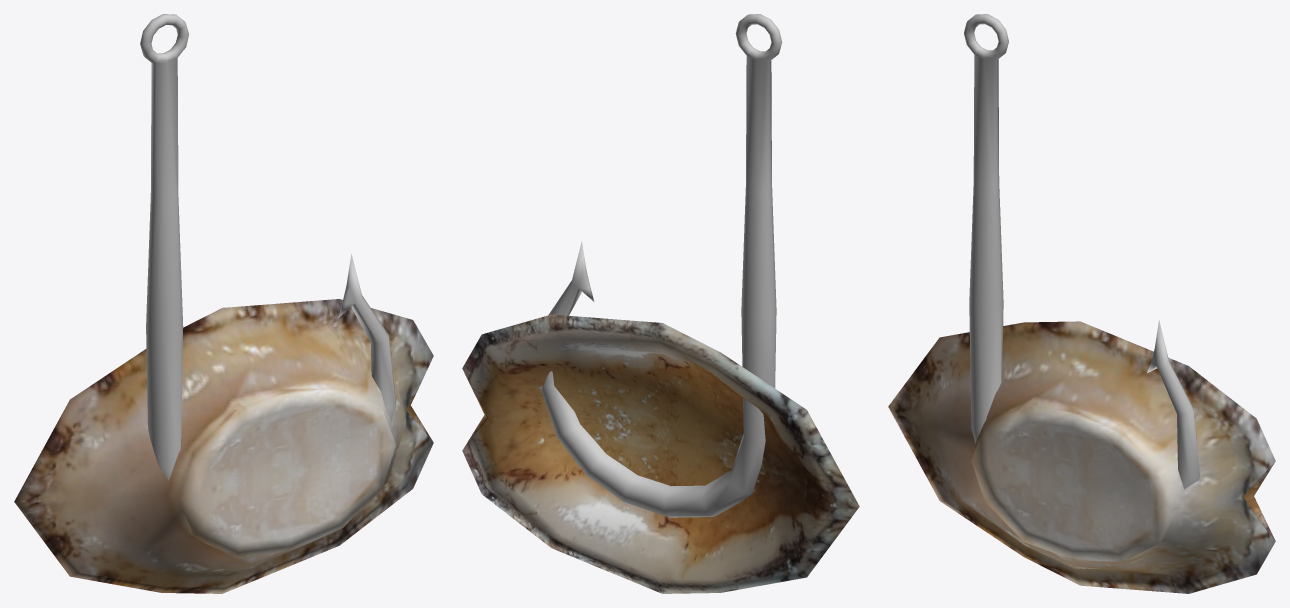
File: Bait_Abalone.fbx
3 renders of one model, left to right at view 1: azimuth 30°, elevation 25°; view 2: azimuth 150°, elevation 25°; view 3: azimuth 330°, elevation 25°, orthographic. The views are drawn at different scales.
Visible parts, largest first — view 1: Bait_Abalone; view 2: Bait_Abalone; view 3: Bait_Abalone.
Part boxes in pixels (bbox=[...]): Bait_Abalone: bbox=[14, 14, 433, 593]; Bait_Abalone: bbox=[462, 14, 859, 593]; Bait_Abalone: bbox=[888, 14, 1275, 593].
Size of the model in its own units: 0.348 by 0.4875 by 0.0637.
